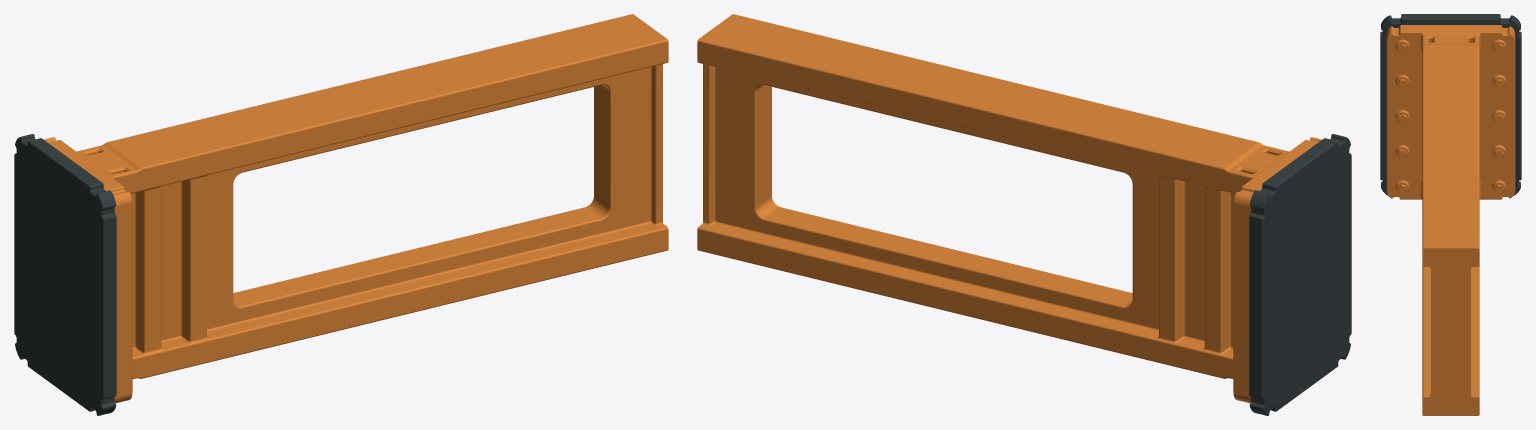
The model's file is structure_beam_wallMount_b01.glb.
3 views of the same model, side by side, from view 1: azimuth 30°, elevation 25°; view 2: azimuth 150°, elevation 25°; view 3: azimuth 270°, elevation 25° (orthographic). The views are drawn at different scales.
Size of the model in its own units: 1.68 by 0.6113 by 0.4374.
